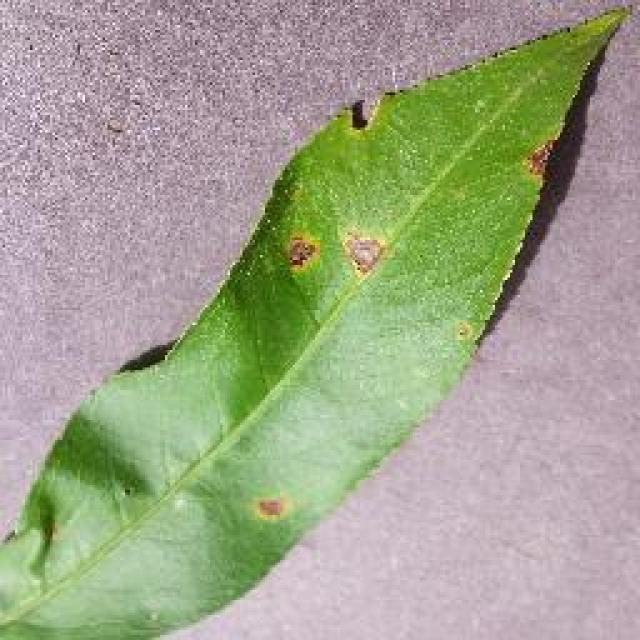Peach_Bacterial_Spot: (245, 140, 495, 325)
